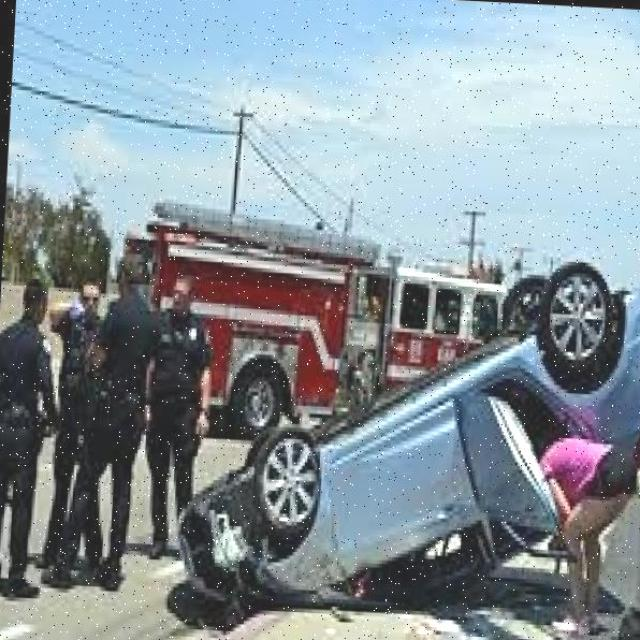accident: (151, 249, 640, 640)
